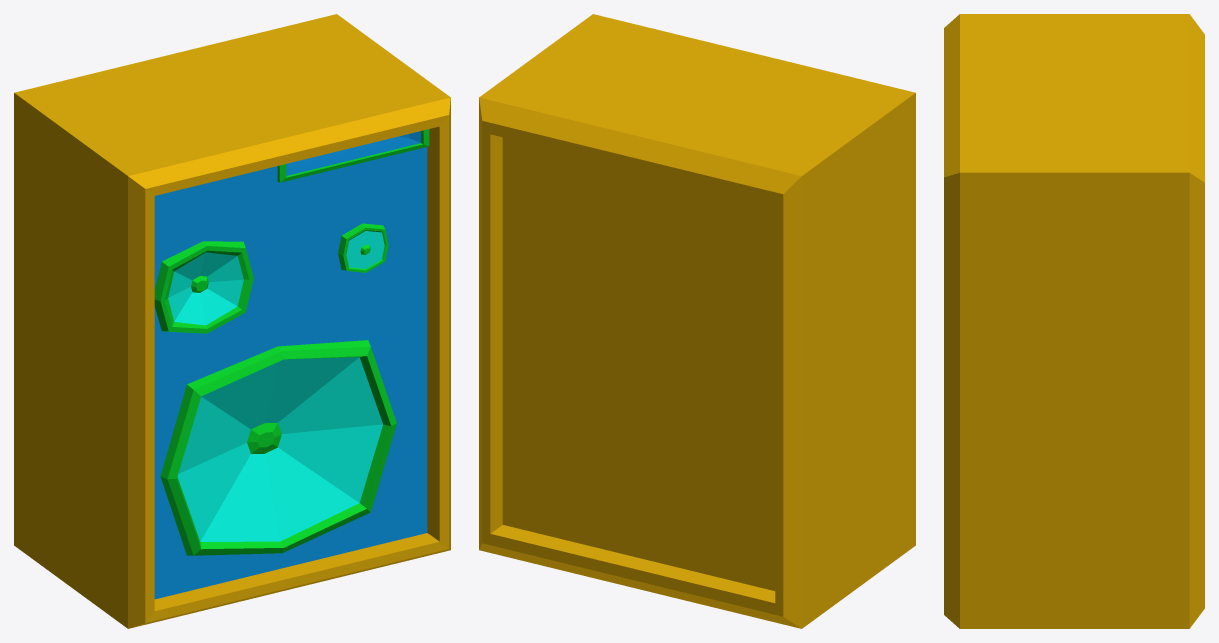
File: SpeakerXL_colorblocked.glb
The picture shows the model from 3 angles, left to right: view 1: azimuth 30°, elevation 25°; view 2: azimuth 150°, elevation 25°; view 3: azimuth 270°, elevation 25°; orthographic projection.
Parts seen in each view (by area): view 1: SpeakerXl.002, SpeakerXl.001; view 2: SpeakerXl.002; view 3: SpeakerXl.002.
Part boxes in pixels (x1,y1,x2,y2): SpeakerXl.002: [14, 14, 450, 628]; SpeakerXl.001: [154, 129, 429, 599]; SpeakerXl.002: [479, 14, 915, 628]; SpeakerXl.002: [944, 14, 1204, 628].
Bounding box in the file's own units: 1.48 × 1.98 × 1.03.
